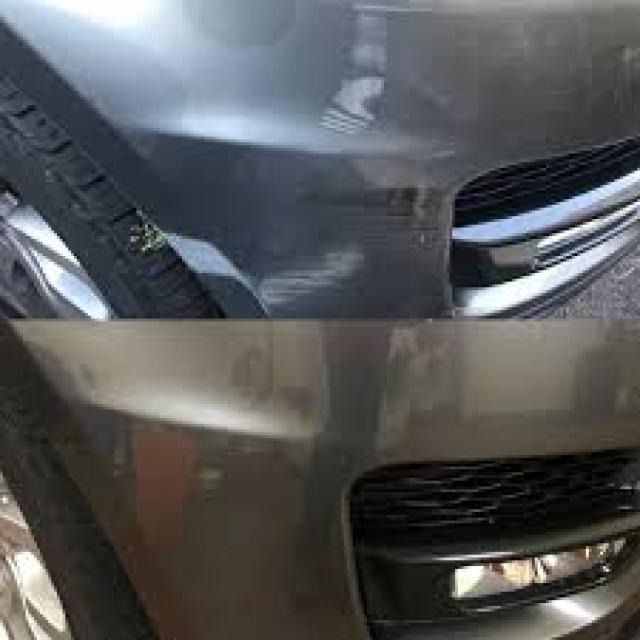dent-or-scratch: (200, 200, 453, 312)
